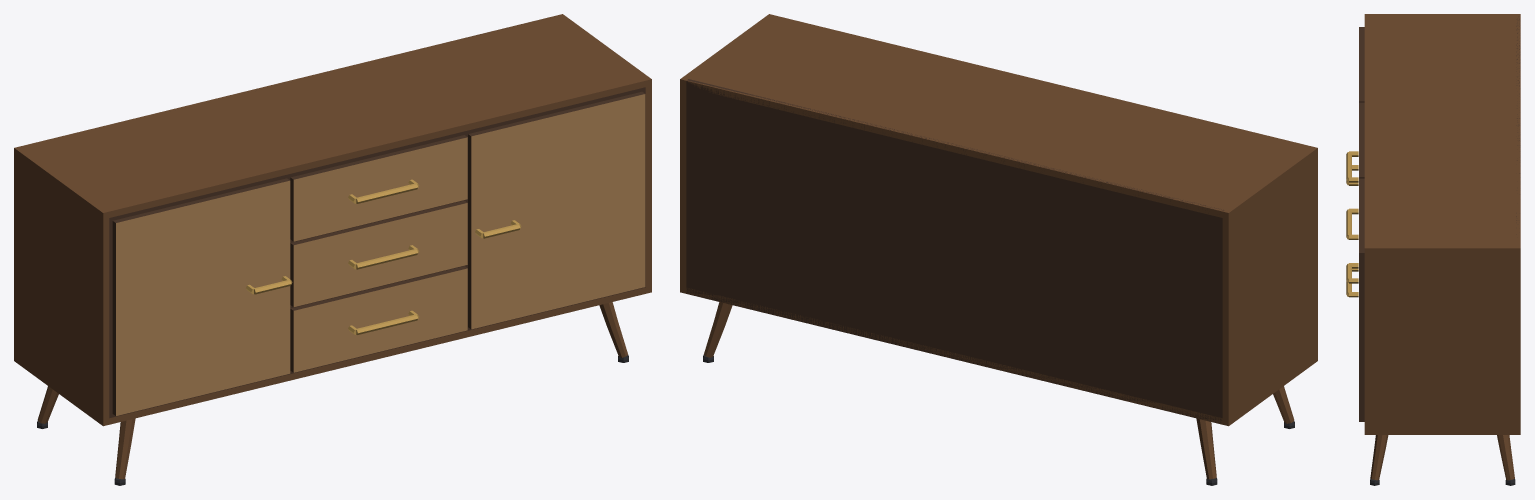
File: FN_Sideboard.obj
The picture shows the model from 3 angles, left to right: view 1: azimuth 30°, elevation 25°; view 2: azimuth 150°, elevation 25°; view 3: azimuth 270°, elevation 25°; orthographic projection. The views are drawn at different scales.
Parts seen in each view (by area): view 1: FN_Sideboard; view 2: FN_Sideboard; view 3: FN_Sideboard.
Boxes of the visible parts, <box> form: FN_Sideboard: <box>14,14,651,485</box>; FN_Sideboard: <box>680,14,1317,485</box>; FN_Sideboard: <box>1346,14,1520,485</box>.
Size of the model in its own units: 1.6 by 0.78 by 0.503.
1 material, 1 textured.
